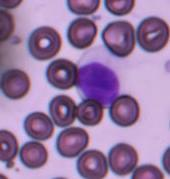L: (75, 56, 124, 108)
